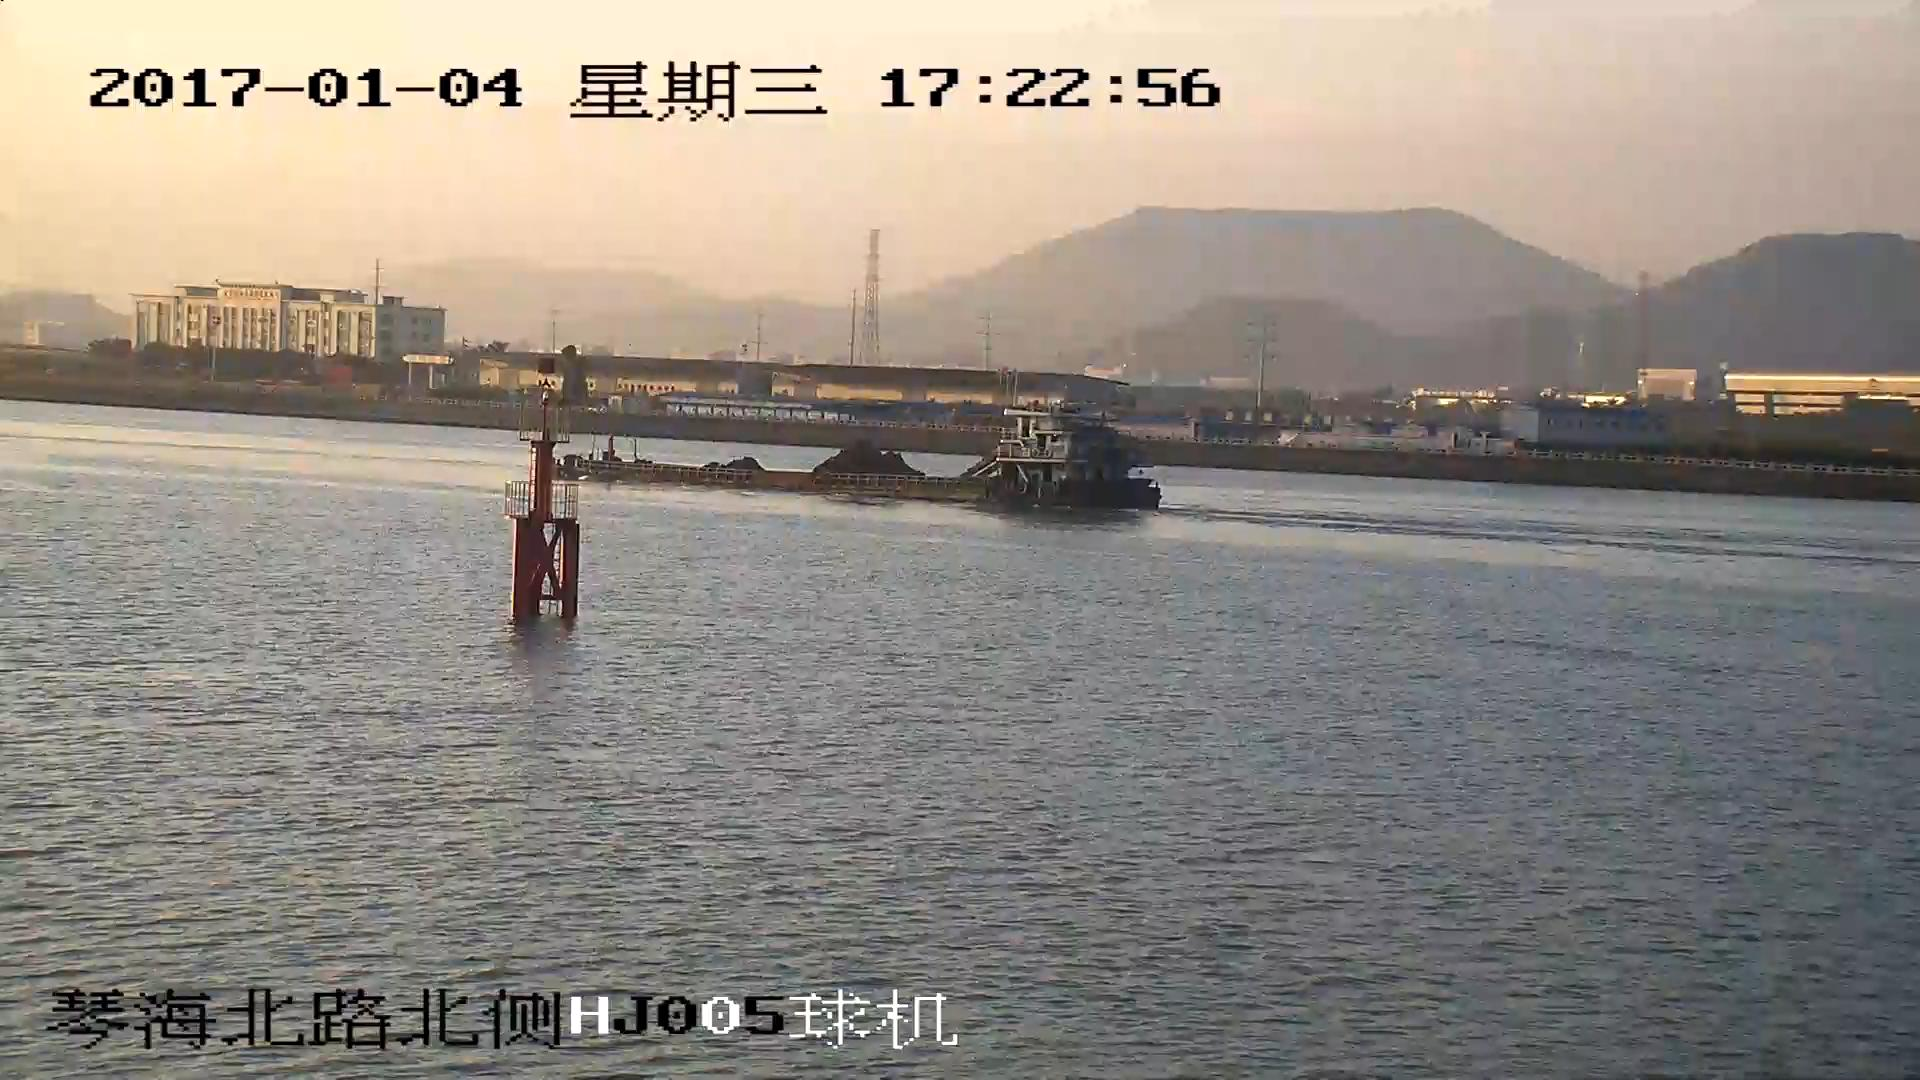ore carrier: (549, 412, 1163, 511)
